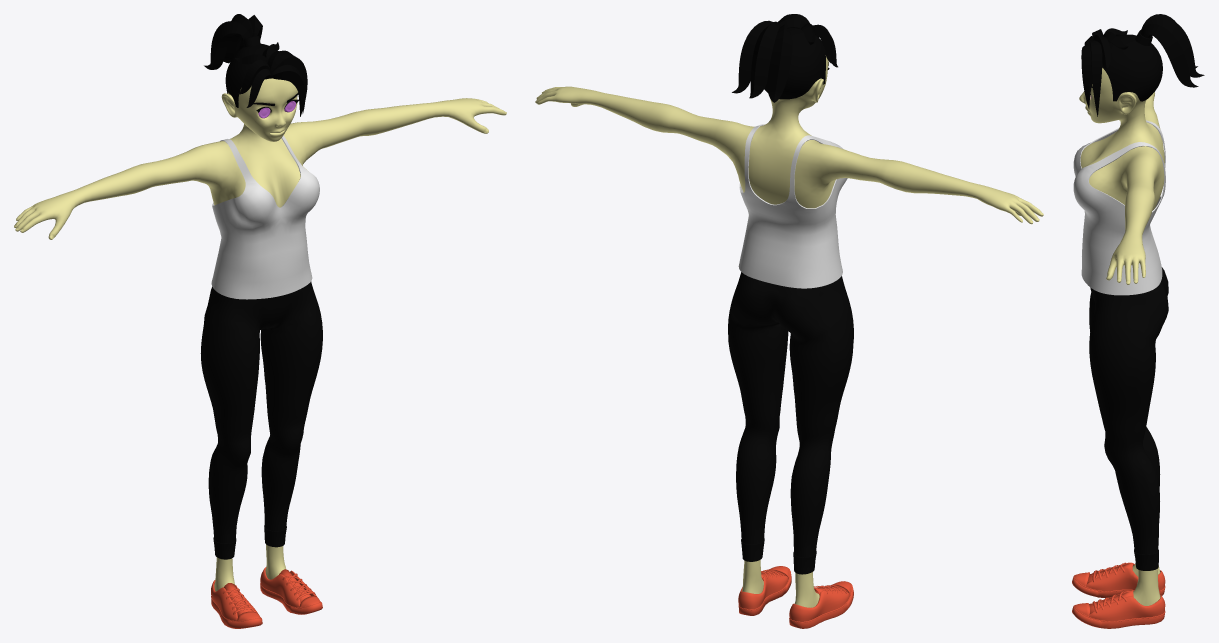
File: girl_2.gltf
3 views of the same model, side by side, from view 1: azimuth 30°, elevation 25°; view 2: azimuth 150°, elevation 25°; view 3: azimuth 270°, elevation 25° (orthographic). The views are drawn at different scales.
Parts seen in each view (by area): view 1: D_2, Body, D_1, Hair, Shoes; view 2: D_2, Body, D_1, Hair, Shoes; view 3: D_2, Body, Hair, D_1, Shoes.
Boxes of the visible parts, box(x1,y1,x2,y2) form: D_2: box(200, 281, 322, 559); Body: box(14, 78, 506, 591); D_1: box(211, 135, 319, 299); Hair: box(204, 14, 307, 116); Shoes: box(211, 567, 322, 628); D_2: box(728, 272, 853, 574); Body: box(535, 55, 1043, 607); D_1: box(738, 124, 847, 288); Hair: box(732, 14, 837, 102); Shoes: box(738, 566, 853, 628); D_2: box(1089, 267, 1168, 570); Body: box(1079, 68, 1164, 605); Hair: box(1081, 14, 1204, 116); D_1: box(1073, 120, 1165, 295); Shoes: box(1072, 562, 1165, 628).
Bounding box in the file's own units: 6.55 × 7.46 × 1.52.
